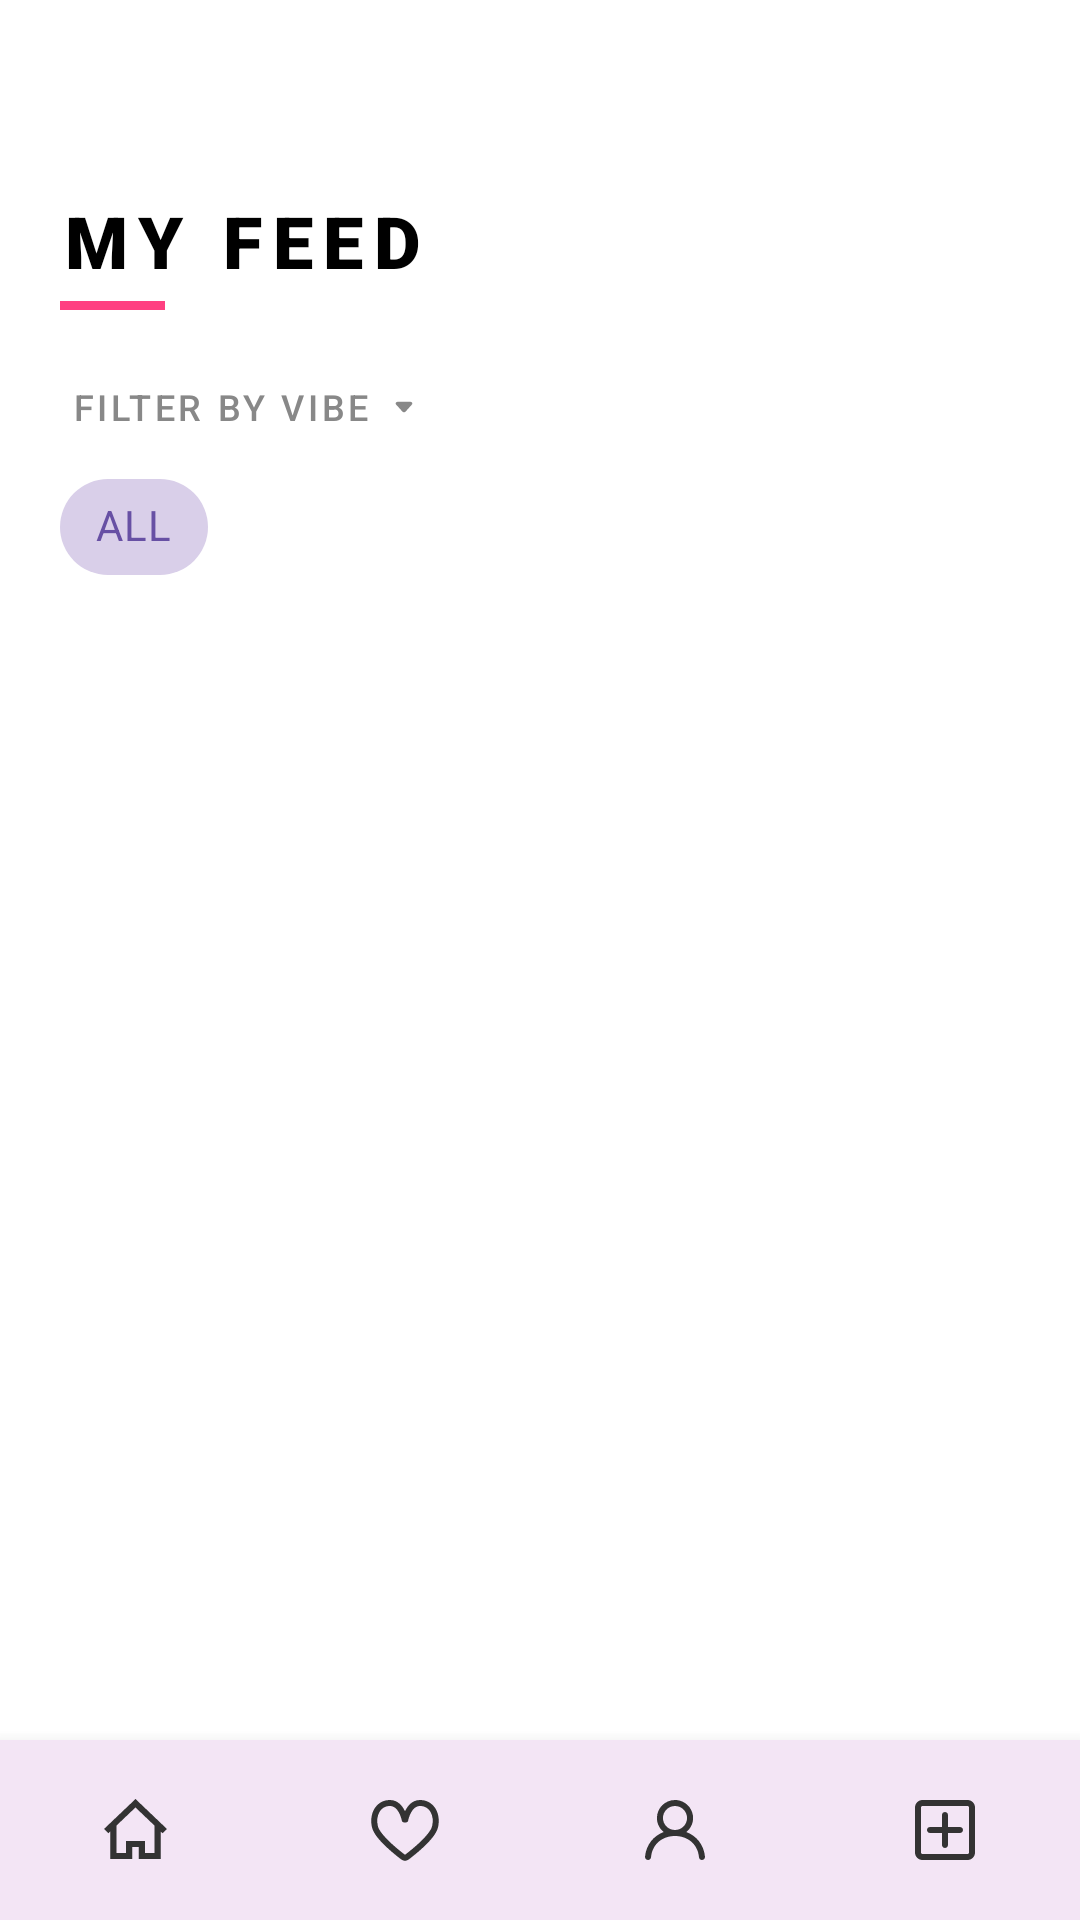

Icon bounding boxes for this 1080 x 1920 phone screenshot, format (x1, y1, x2, y2):
heart tool bar: (371, 1800, 439, 1861)
home: (104, 1799, 167, 1859)
person: (645, 1800, 705, 1860)
plus: (915, 1800, 975, 1860)
